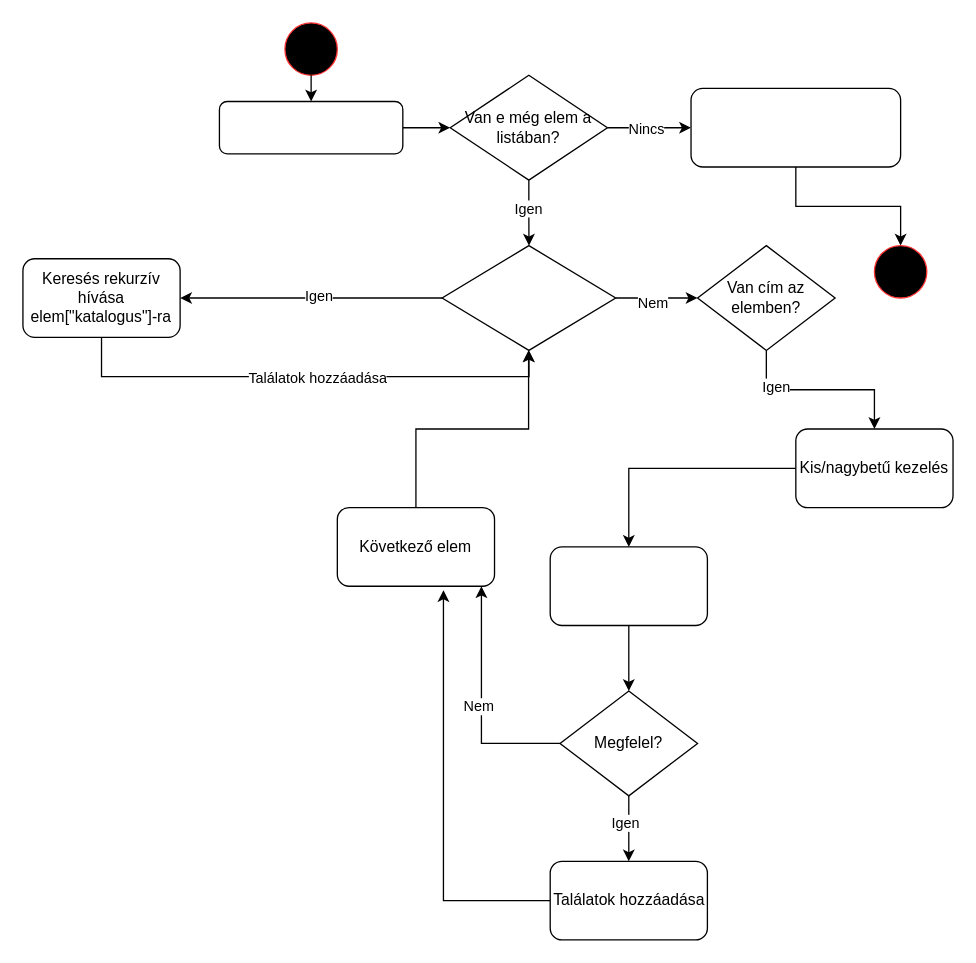
Image size: 976x963. Some labels were removed from this diagram. Each missing label, with the centre of its shape:
Feltételek ellenőrzése: point 628,586
Keresés: point 310,127
Találatok visszaadása: point 795,127
Van-e "katalógus" az elemben?: point 528,297
